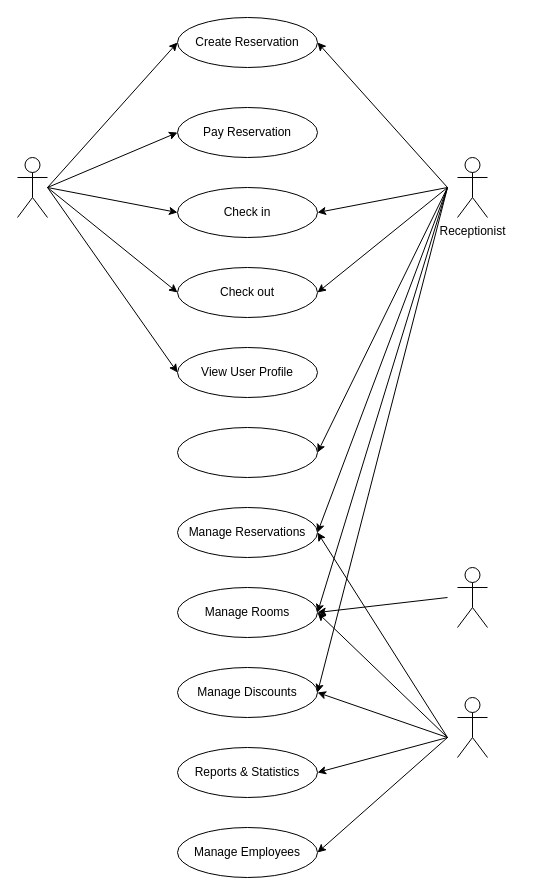
The diagram is 535 pixels wide and 895 high, and some of its shapes have lost their labels. The shapes that lost their labels are listed below. From the top down, each one's centre as x and y in pixels, then its label:
At point (32, 187): "Host".
At point (247, 452): "Manage Hosts".
At point (472, 597): "Cleaning Service".
At point (472, 727): "Management".
